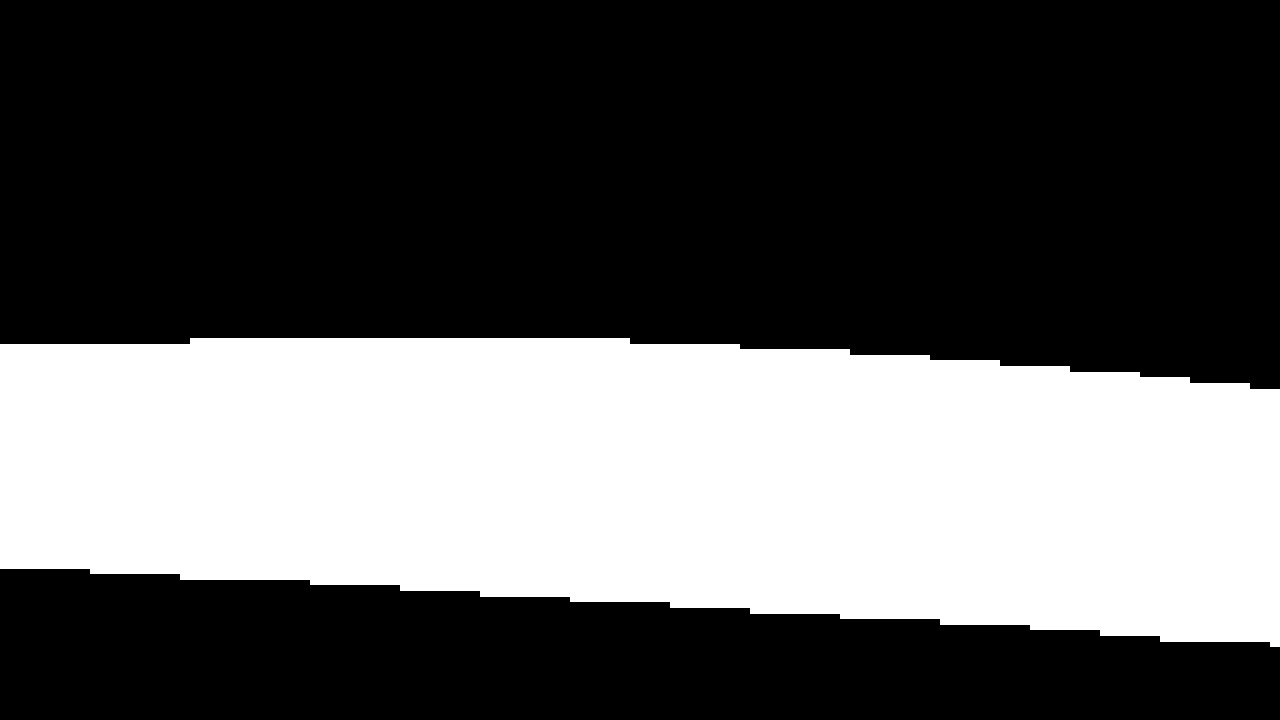Turbine: (6, 284, 1277, 666)
